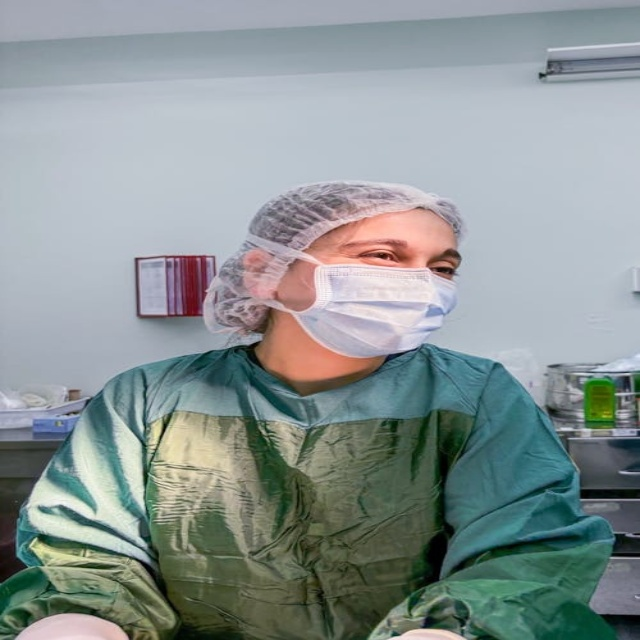Mascara: (252, 248, 456, 358)
Sin_gafas: (329, 231, 470, 280)
